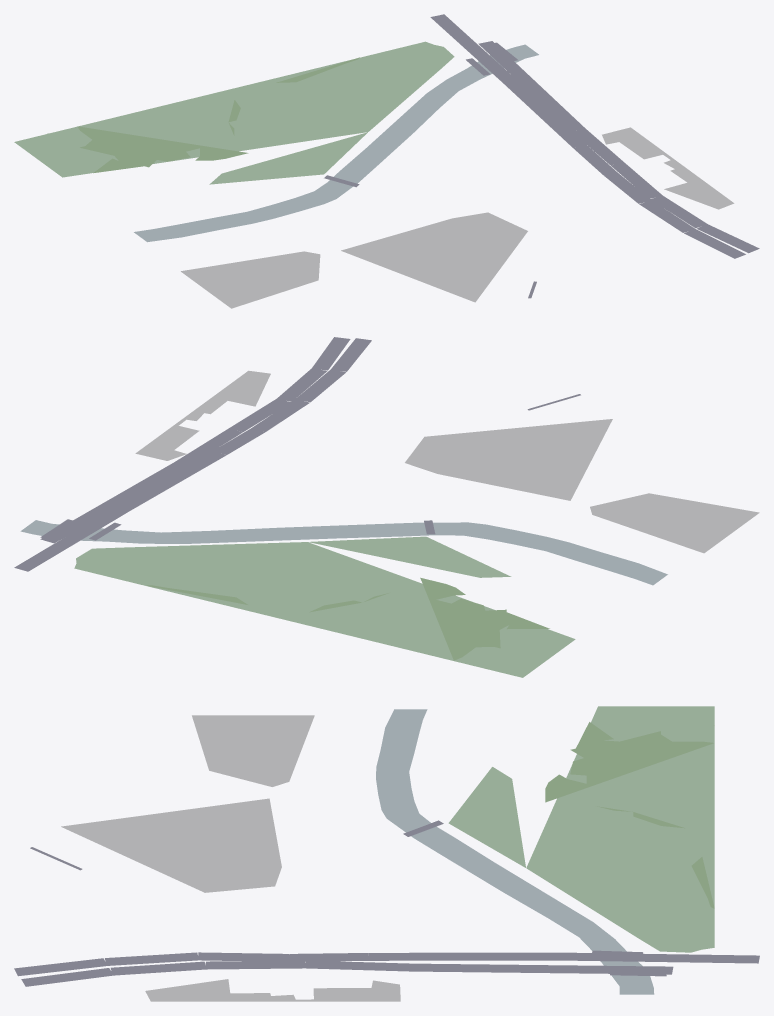
Rendered from 123_120_mid.glb.
3 renders of one model, top to bottom at view 1: azimuth 30°, elevation 25°; view 2: azimuth 150°, elevation 25°; view 3: azimuth 270°, elevation 25°, orthographic. The views are drawn at different scales.
Bounding box in the file's own units: 500 × 14.6 × 552.
